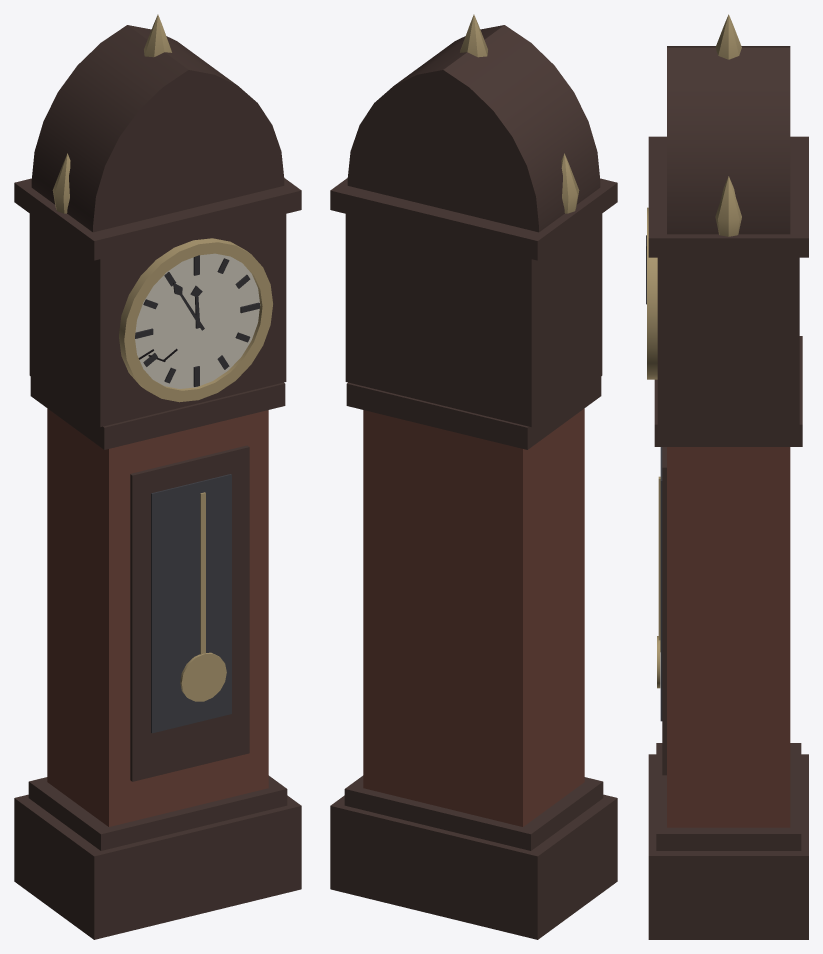
File: grand_clock.glb
3 renders of one model, left to right at view 1: azimuth 30°, elevation 25°; view 2: azimuth 150°, elevation 25°; view 3: azimuth 270°, elevation 25°, orthographic.
Parts seen in each view (by area): view 1: GrandClock; view 2: GrandClock; view 3: GrandClock.
Boxes of the visible parts, bbox=[...] form: GrandClock: bbox=[14, 14, 301, 939]; GrandClock: bbox=[330, 14, 617, 939]; GrandClock: bbox=[646, 14, 808, 939].
Bounding box in the file's own units: 0.78 × 3.13 × 0.528.
